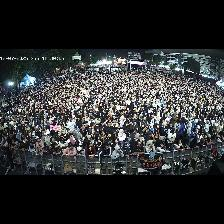person: (99, 144, 112, 169), (198, 134, 218, 144), (85, 142, 96, 159), (63, 143, 76, 157), (167, 130, 176, 150), (131, 134, 141, 151), (132, 141, 144, 155), (112, 145, 124, 159), (188, 127, 197, 145), (122, 121, 132, 137), (155, 140, 168, 152), (145, 129, 155, 144), (145, 140, 155, 153), (95, 135, 103, 151), (160, 123, 167, 141), (118, 129, 126, 144), (52, 143, 62, 155), (130, 120, 139, 133), (122, 143, 130, 157), (59, 138, 67, 152), (55, 131, 66, 141), (189, 137, 199, 148), (175, 140, 184, 152), (67, 134, 76, 146), (112, 139, 121, 150), (181, 137, 190, 148), (73, 125, 80, 139), (50, 120, 58, 132), (105, 133, 113, 145), (77, 133, 84, 146), (29, 142, 36, 155), (19, 141, 28, 151), (36, 137, 44, 148), (196, 130, 202, 144), (154, 124, 159, 140), (0, 138, 8, 148), (179, 121, 185, 134), (87, 134, 94, 145), (45, 133, 51, 145), (130, 130, 137, 140), (104, 122, 111, 132), (60, 125, 67, 135), (205, 120, 210, 133), (77, 147, 85, 155), (28, 133, 36, 141), (21, 134, 28, 143), (205, 135, 211, 145), (125, 138, 131, 148), (51, 138, 59, 145), (120, 116, 125, 127), (15, 141, 19, 153), (48, 145, 53, 154), (217, 135, 222, 142)
